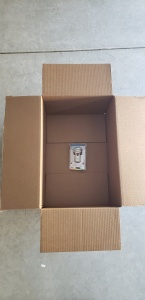innerbox: (42, 95, 121, 208)
outerbox: (2, 63, 145, 253)
product: (69, 142, 88, 171)
